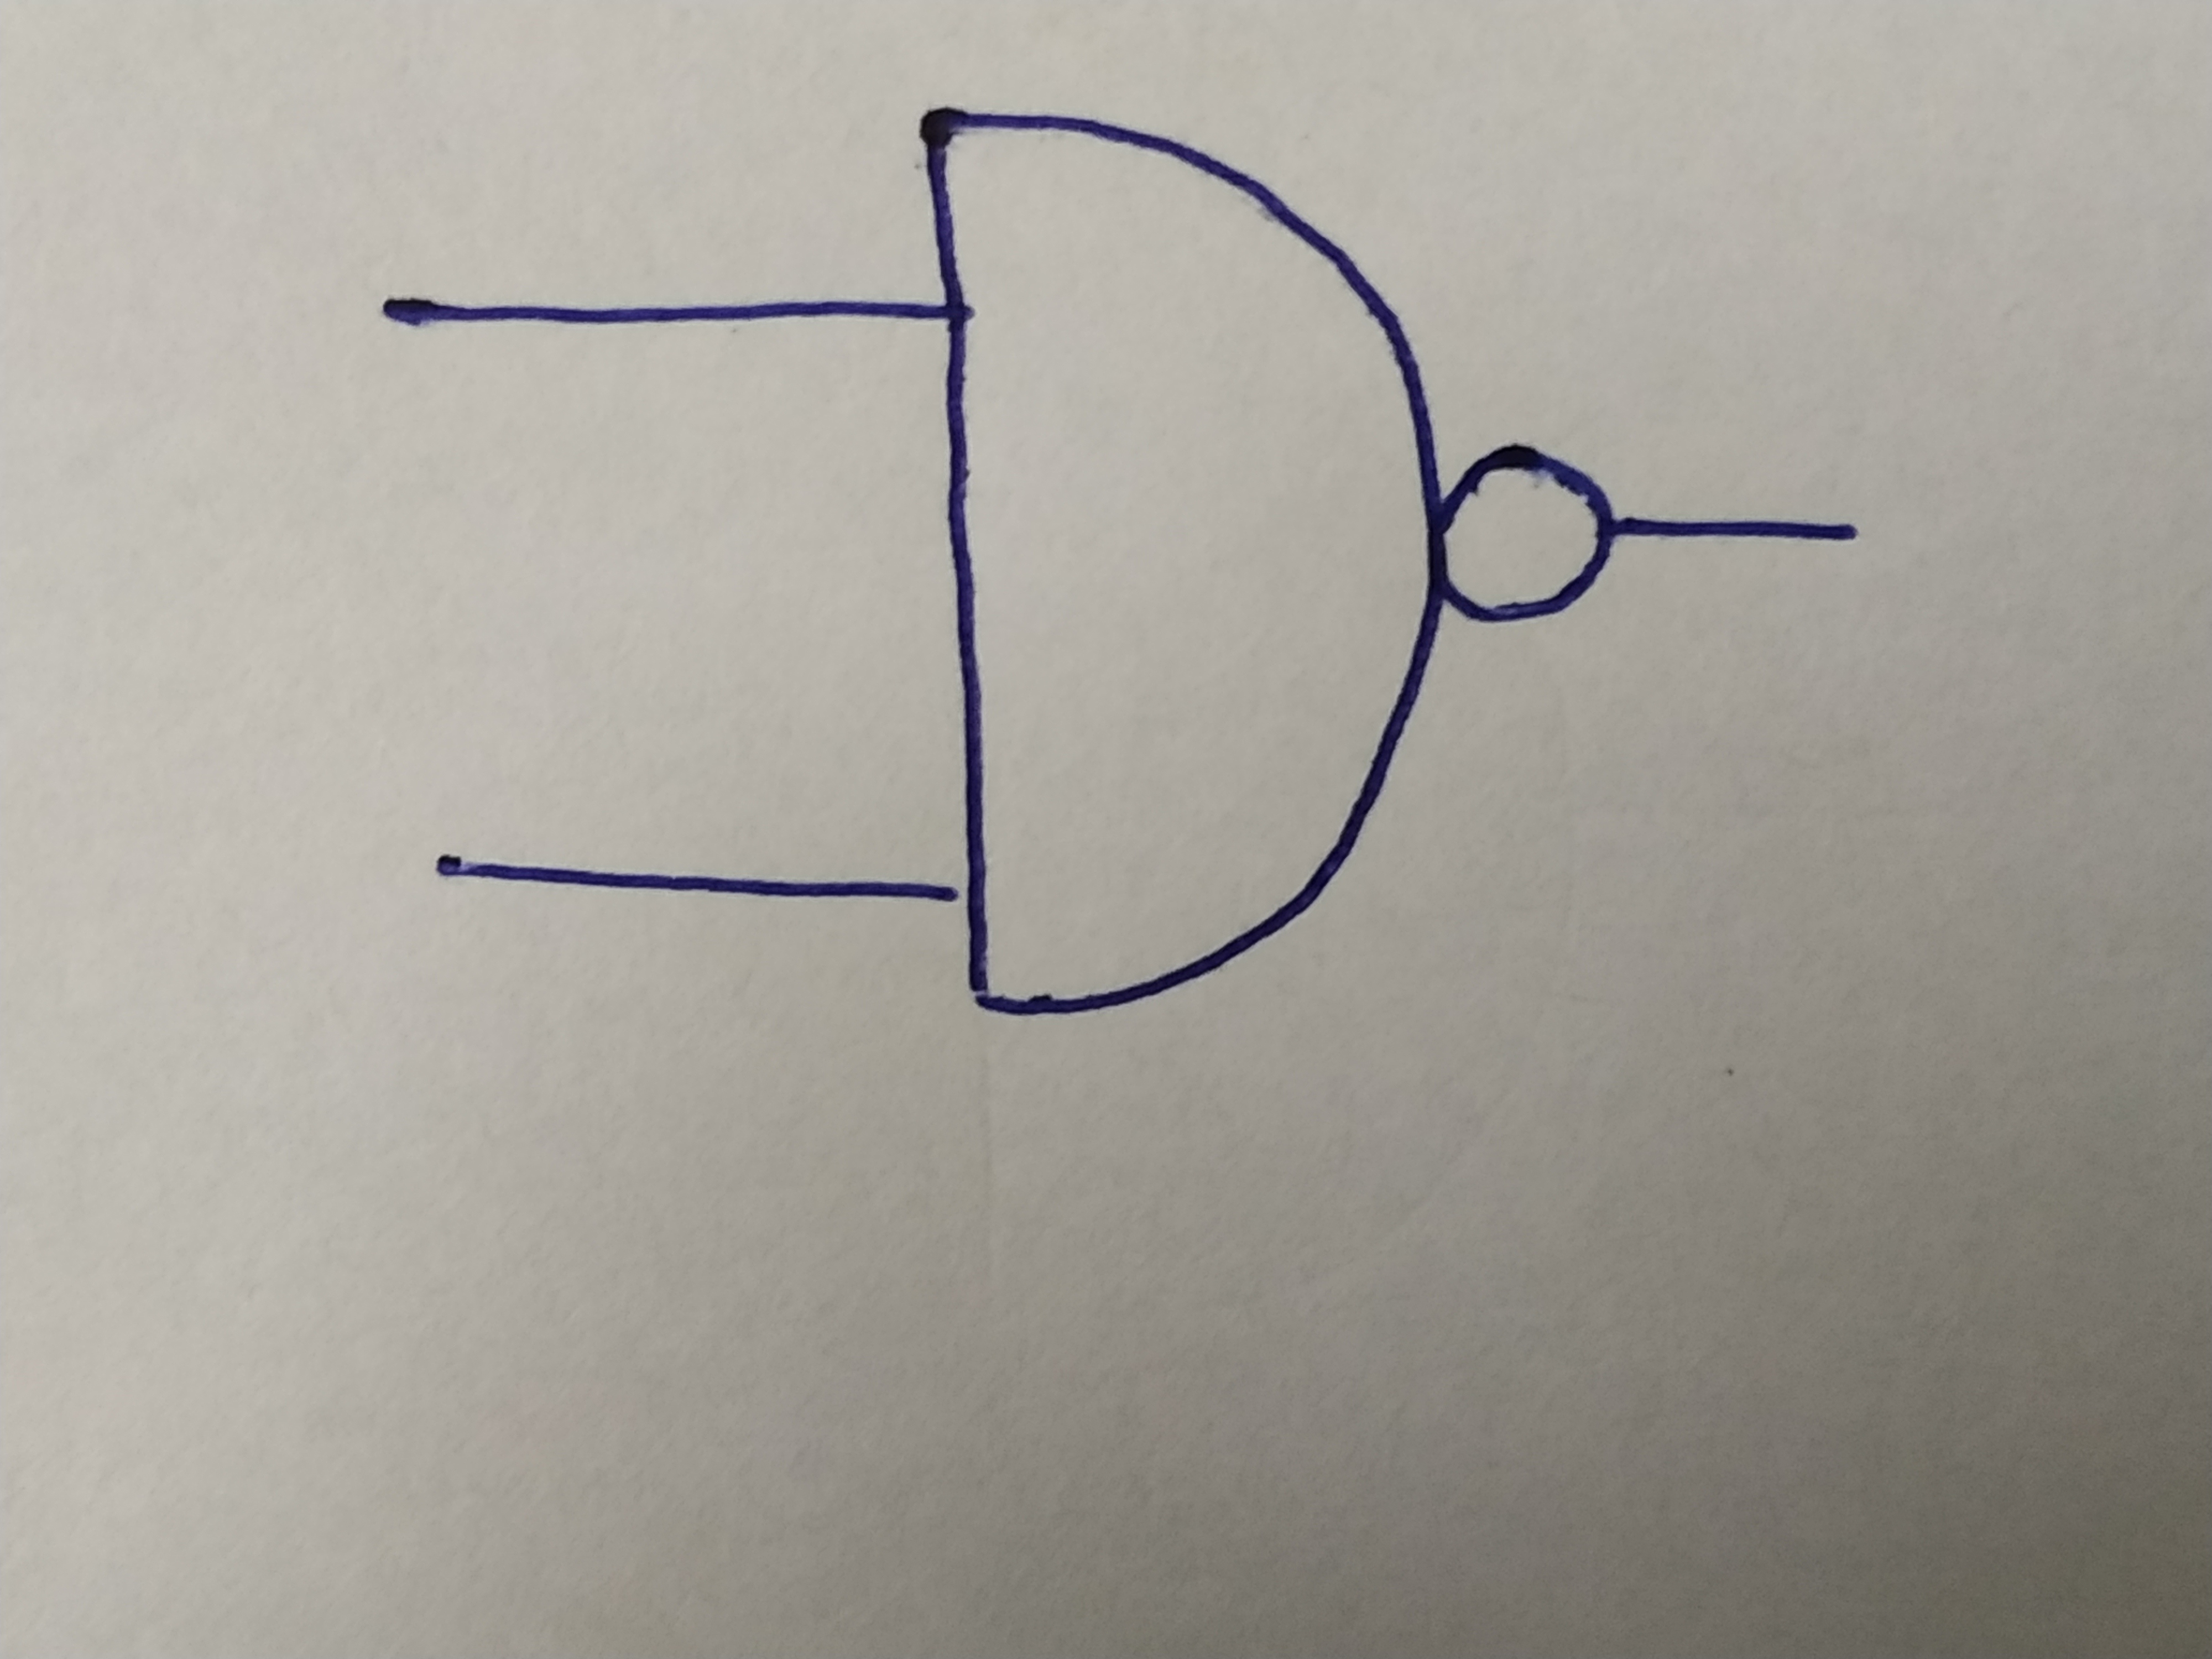and: (925, 101, 1430, 992)
not: (1442, 451, 1608, 620)
